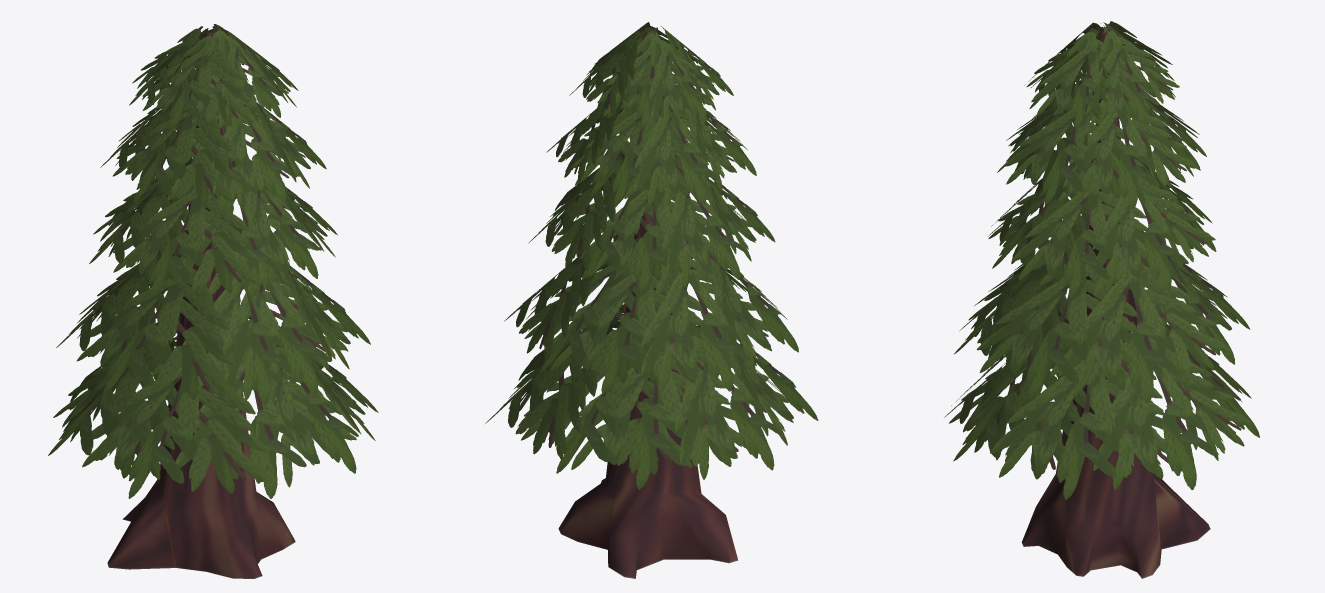
The model's file is tree-trunk-010-28.glb.
3 views of the same model, side by side, from view 1: azimuth 30°, elevation 25°; view 2: azimuth 150°, elevation 25°; view 3: azimuth 270°, elevation 25° (orthographic). The views are drawn at different scales.
Visible parts, largest first — view 1: spruce_leaves.001_27, Tree_Trunk.010_28; view 2: spruce_leaves.001_27, Tree_Trunk.010_28; view 3: spruce_leaves.001_27, Tree_Trunk.010_28.
Boxes of the visible parts, x1,y1,x2,y2 form: spruce_leaves.001_27: (48,24,378,498); Tree_Trunk.010_28: (107,29,295,578); spruce_leaves.001_27: (485,22,818,489); Tree_Trunk.010_28: (558,32,738,578); spruce_leaves.001_27: (944,21,1259,499); Tree_Trunk.010_28: (1021,28,1210,578).
Bounding box in the file's own units: 24.31 × 32.31 × 23.25.
2 materials, 2 textured.
